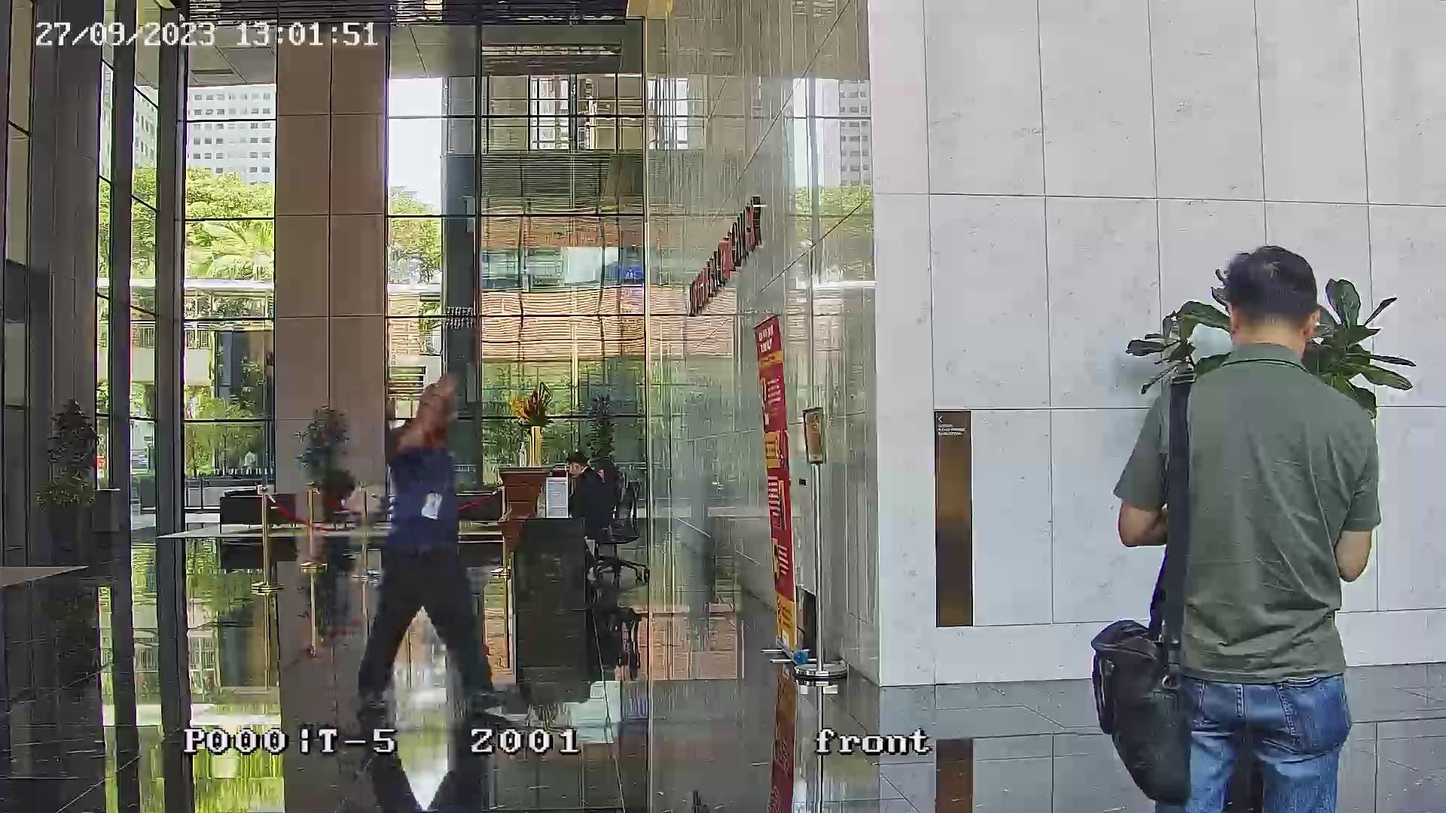person: (1109, 245, 1382, 805), (355, 370, 505, 726), (563, 451, 614, 527)
